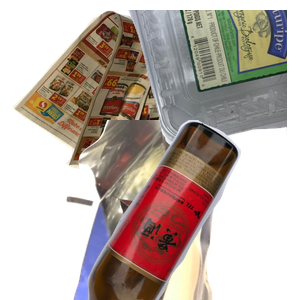glass: (85, 120, 300, 300)
paper: (10, 10, 217, 189)
plastic: (60, 10, 300, 149)
trash: (63, 120, 300, 300)
